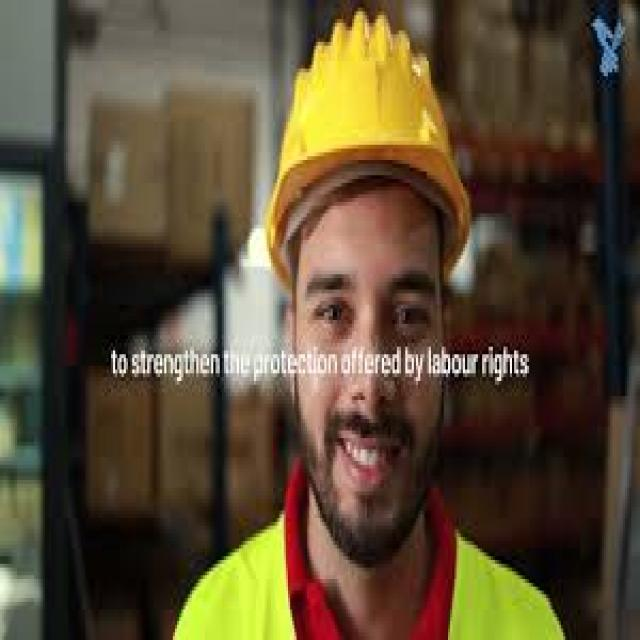Reflective-Jacket: (173, 522, 578, 640)
Safety-Helmet: (258, 8, 478, 286)
